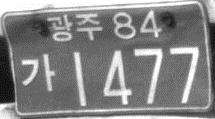1: (71, 49, 89, 109)
4: (102, 49, 133, 106), (139, 10, 163, 39)
7: (167, 45, 201, 104), (132, 46, 163, 105)
8: (112, 9, 136, 40)
가: (19, 52, 55, 93)
광주_O: (45, 12, 102, 42)
